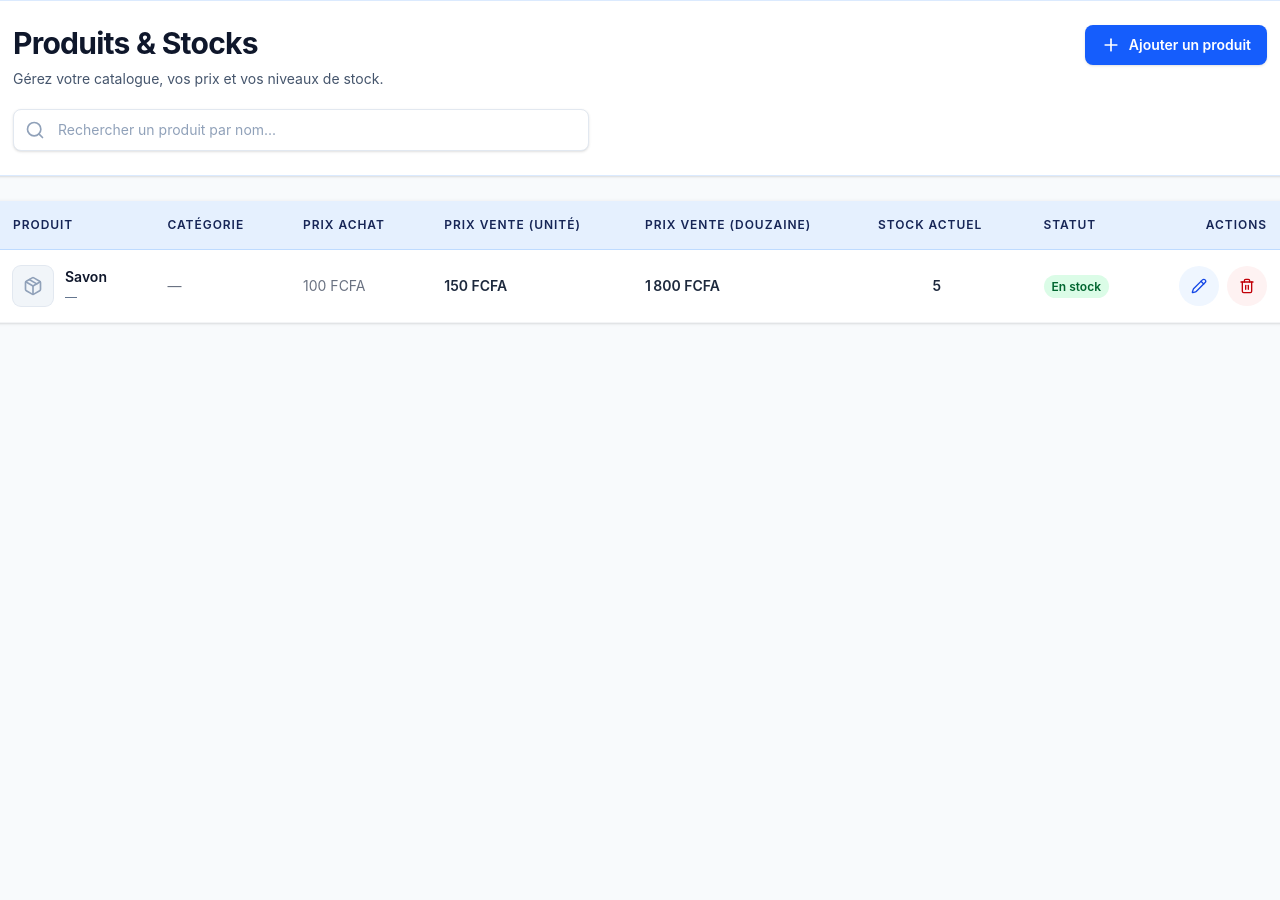
Scenario: Fiche produit : champs facultatifs › seul le nom est obligatoire, avec le texte d’aide sous le prix d’achat
What coordinates should you click on to do the following:
click the button "Ajouter un produit"
I would click on:
 (1176, 45)
Its box is [1085,25,1267,65].
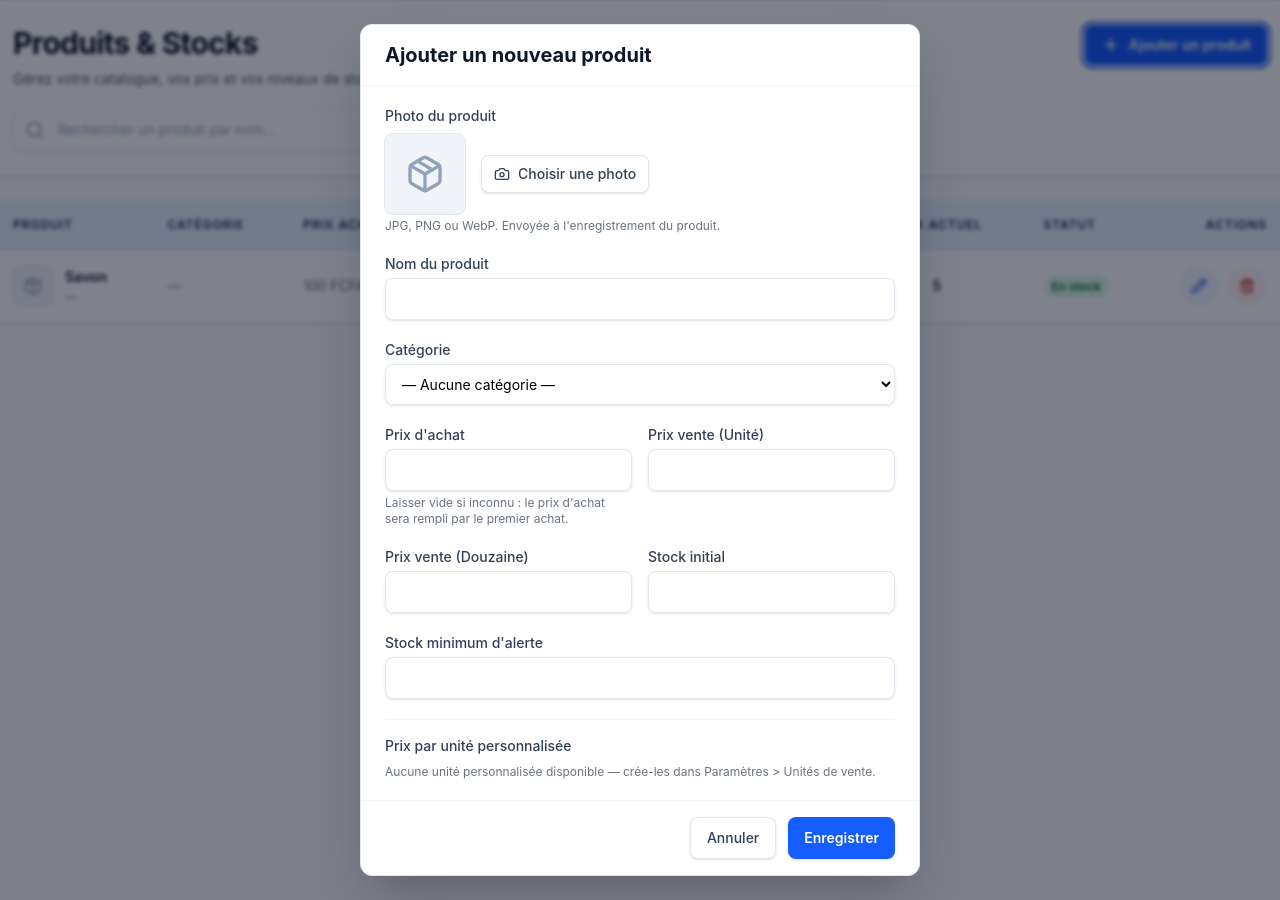
Expected: the text "Laisser vide si inconnu : le prix d'achat sera rempli par le premier achat." is shown, [385,495,632,527]
